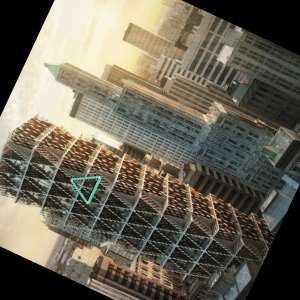triangle: (66, 172, 105, 204)
